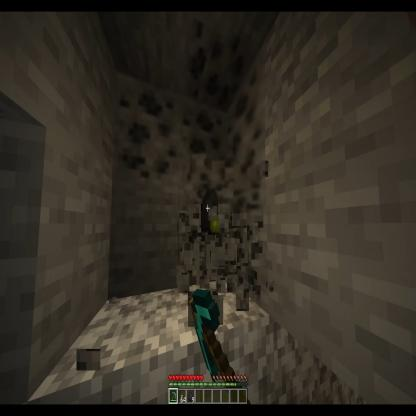coal ore: (112, 70, 186, 190), (176, 17, 252, 122), (225, 49, 265, 212), (178, 97, 233, 204)
